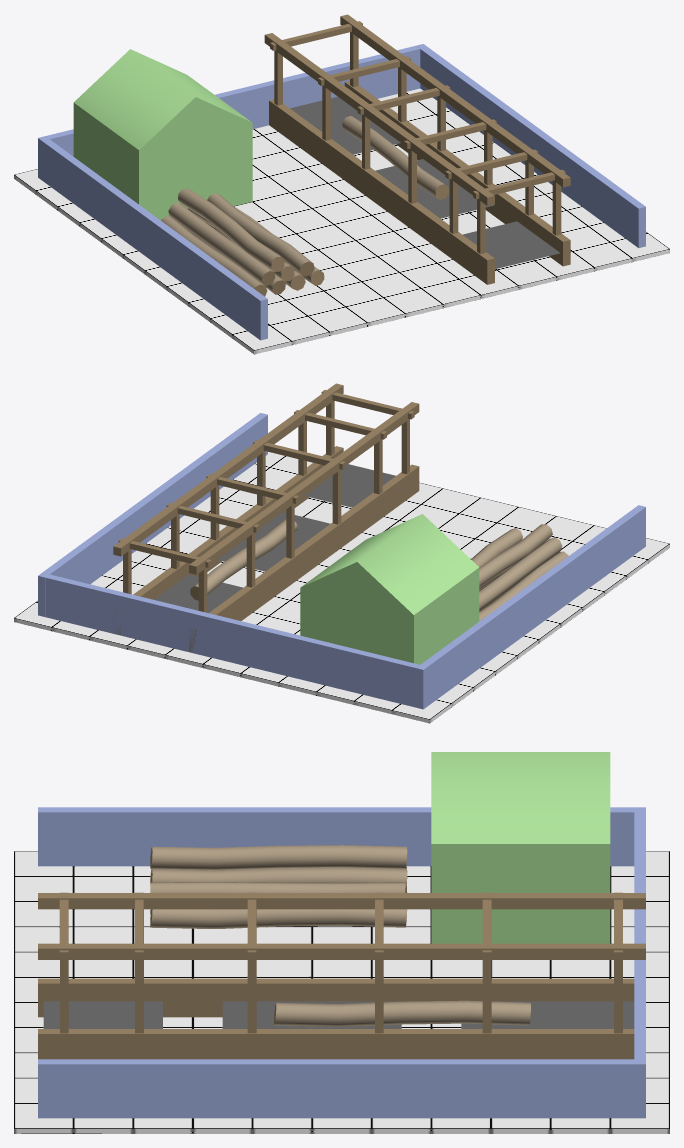
File: XG_Sawmill.glb
The picture shows the model from 3 angles, top to bottom: view 1: azimuth 30°, elevation 25°; view 2: azimuth 150°, elevation 25°; view 3: azimuth 270°, elevation 25°; orthographic projection. The views are drawn at different scales.
Parts seen in each view (by area): view 1: ground_11_x_11_023, building_3m_3m_032, Box677, Box676, Box678, Box675, Box680, Box681, Box679, Plane031, log_068, log_070 (+13 smaller); view 2: ground_11_x_11_023, building_3m_3m_032, Box675, Box677, Box676, Box678, Box680, Box681, Box679, Plane030, Plane031, log_068 (+13 smaller); view 3: ground_11_x_11_023, Box676, building_3m_3m_032, Box677, Box679, Box678, Box681, Box680, log_070, log_069, log_062, log_067 (+11 smaller).
Boxes of the visible parts, box(x1,y1,x2,y2) form: ground_11_x_11_023: box(14, 88, 669, 354); building_3m_3m_032: box(73, 49, 252, 220); Box677: box(38, 136, 267, 340); Box676: box(416, 44, 645, 248); Box678: box(269, 99, 494, 284); Box675: box(46, 45, 420, 156); Box680: box(264, 33, 494, 205); Box681: box(340, 14, 570, 187); Box679: box(344, 81, 570, 266); Plane031: box(463, 221, 560, 268); log_068: box(168, 202, 275, 285); log_070: box(178, 188, 284, 271); ground_11_x_11_023: box(14, 452, 669, 723); building_3m_3m_032: box(300, 514, 479, 664); Box675: box(45, 574, 419, 707); Box677: box(416, 505, 645, 709); Box676: box(38, 413, 267, 617); Box678: box(189, 464, 419, 652); Box680: box(189, 402, 419, 574); Box681: box(113, 383, 343, 556); Box679: box(113, 446, 343, 634); Plane030: box(217, 512, 330, 571); Plane031: box(305, 464, 395, 507); log_068: box(479, 537, 562, 610); ground_11_x_11_023: box(14, 851, 669, 1133); Box676: box(38, 1059, 645, 1118); building_3m_3m_032: box(431, 752, 610, 943); Box677: box(38, 807, 645, 866); Box679: box(38, 1029, 634, 1059); Box678: box(38, 978, 634, 1017); Box681: box(38, 943, 645, 959); Box680: box(38, 893, 645, 909); log_070: box(150, 845, 407, 870); log_069: box(274, 1000, 530, 1026); log_062: box(150, 909, 407, 928); log_067: box(150, 867, 407, 884).
Size of the model in its own units: 11 by 3.1 by 11.
Materials: 6 (1 with a texture image).
